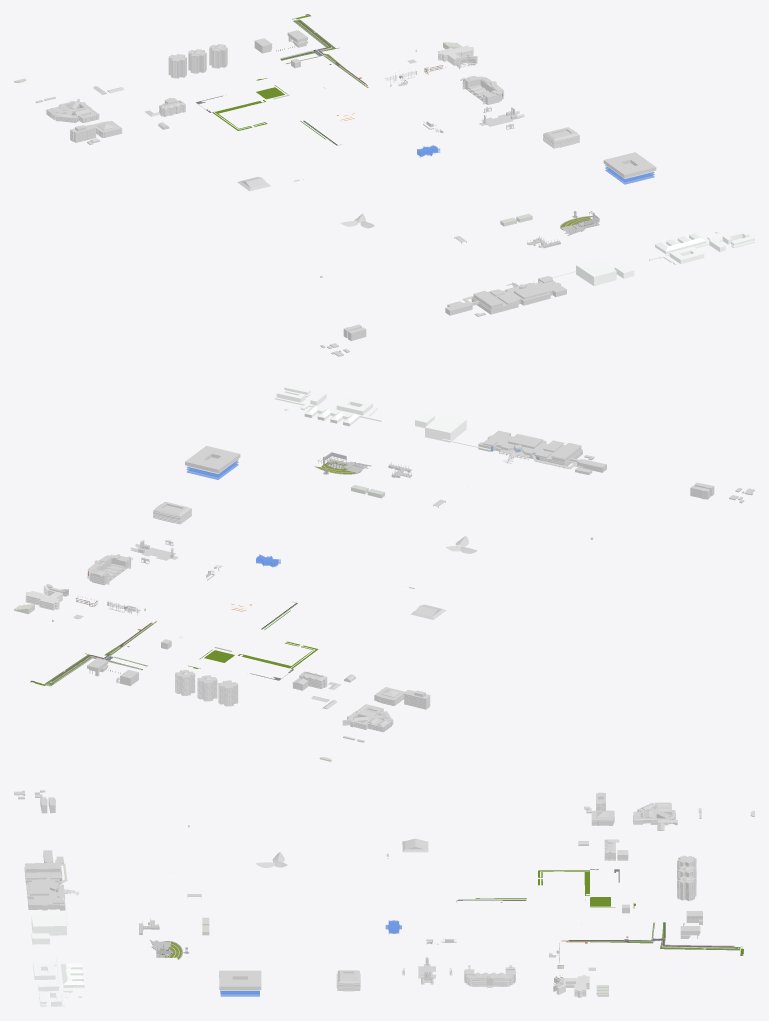
The model's file is mu-campus-01.glb.
3 views of the same model, one above another, from view 1: azimuth 30°, elevation 25°; view 2: azimuth 150°, elevation 25°; view 3: azimuth 270°, elevation 25° (orthographic). The views are drawn at different scales.
Visible parts, largest first — view 1: campus_static; view 2: campus_static; view 3: campus_static.
Boxes of the visible parts, box(x1,y1,x2,y2) form: campus_static: box(14, 14, 754, 356); campus_static: box(14, 385, 754, 761); campus_static: box(14, 790, 754, 1006).
Size of the model in its own units: 1178 by 51.92 by 1712.
Materials: 65 (34 with a texture image).
